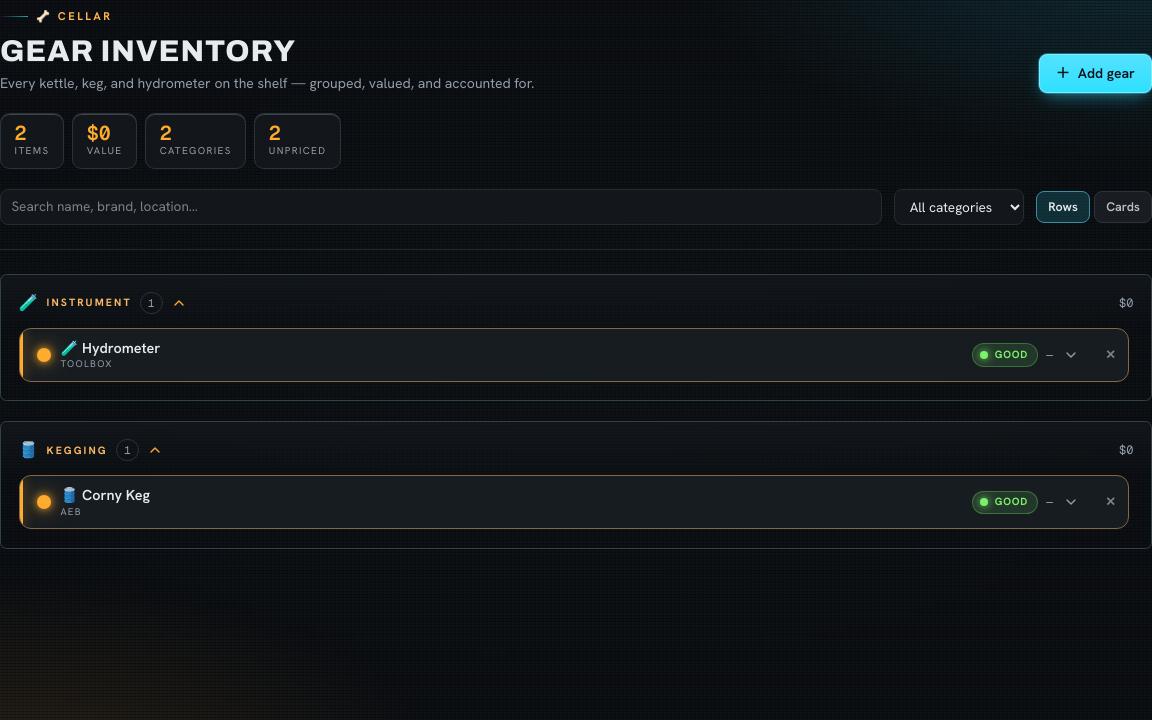
Test: GearView › narrows results with search across name/brand/location
Expected: the text "Corny Keg" is shown, [82,486,150,504]
Step 1. Type "toolbox" into the search field named "Search gear" → {"x": 441, "y": 207}, box [0,189,882,225]
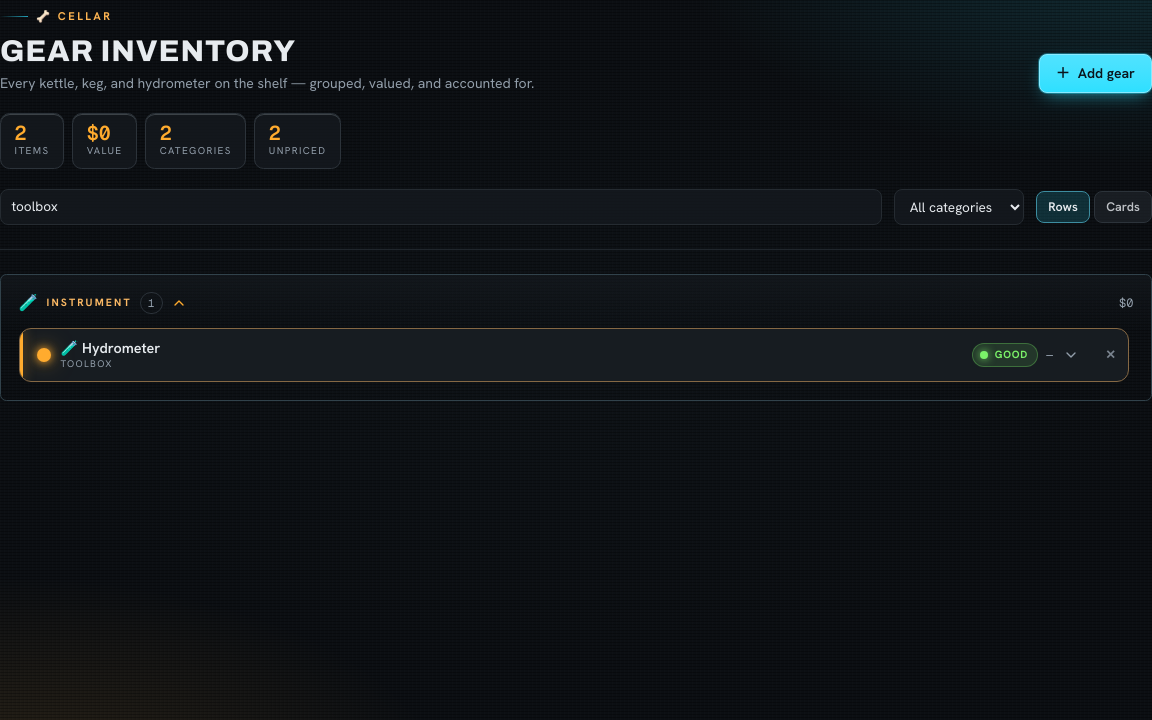
Expected: the text "Hydrometer" is shown, [82,339,160,357]
Expected: the button "Corny Keg" is gone
